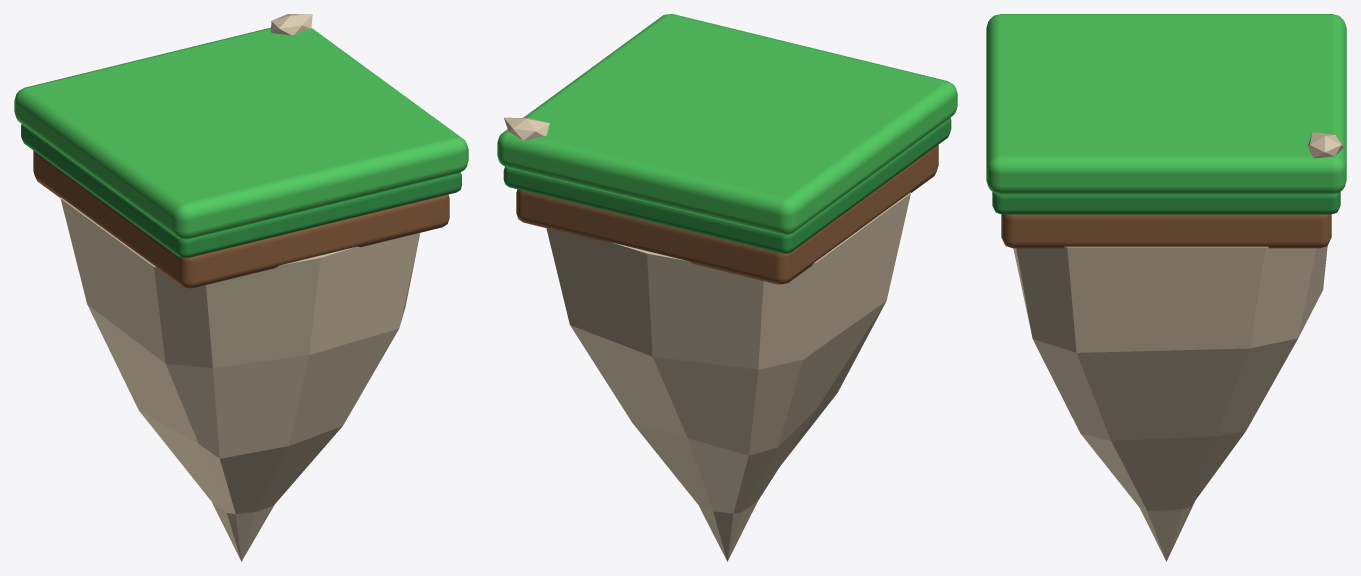
Rendered from PLAT_Isle_S.glb.
3 renders of one model, left to right at view 1: azimuth 30°, elevation 25°; view 2: azimuth 150°, elevation 25°; view 3: azimuth 270°, elevation 25°, orthographic. The views are drawn at different scales.
Parts seen in each view (by area): view 1: Underside, Top, Soil, TopLip, Pebble_0; view 2: Top, Underside, Soil, TopLip, Pebble_0; view 3: Top, Underside, Soil, TopLip, Pebble_0.
Part boxes in pixels (bbox=[...]): Underside: bbox=[60, 197, 420, 561]; Top: bbox=[14, 27, 468, 239]; Soil: bbox=[33, 150, 449, 288]; TopLip: bbox=[21, 124, 461, 258]; Pebble_0: bbox=[270, 14, 312, 35]; Top: bbox=[497, 14, 957, 234]; Underside: bbox=[546, 192, 910, 561]; Soil: bbox=[516, 145, 938, 284]; TopLip: bbox=[503, 118, 951, 253]; Pebble_0: bbox=[504, 117, 549, 140]; Top: bbox=[986, 14, 1346, 194]; Underside: bbox=[1013, 246, 1327, 561]; Soil: bbox=[1001, 214, 1331, 248]; TopLip: bbox=[992, 192, 1340, 214]; Pebble_0: bbox=[1308, 132, 1343, 158].
Bounding box in the file's own units: 3 × 4.5 × 3.
